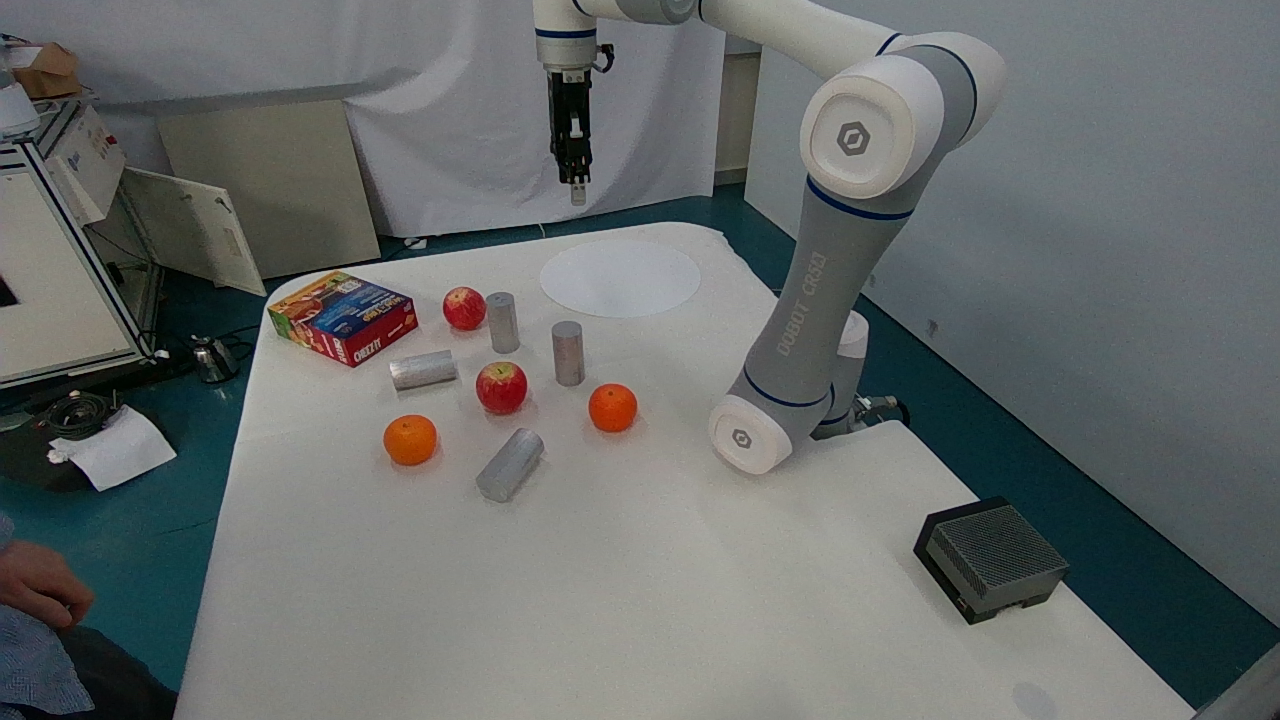apple: (459, 348, 537, 419), (437, 266, 496, 338)
metal rod: (463, 419, 556, 510), (376, 344, 478, 405), (471, 284, 531, 362), (538, 310, 591, 391)
orange: (574, 371, 652, 443), (376, 401, 447, 476)
